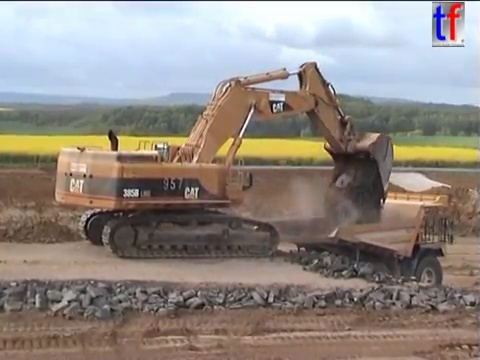excavator: (52, 58, 396, 261)
truck: (254, 188, 457, 306)
